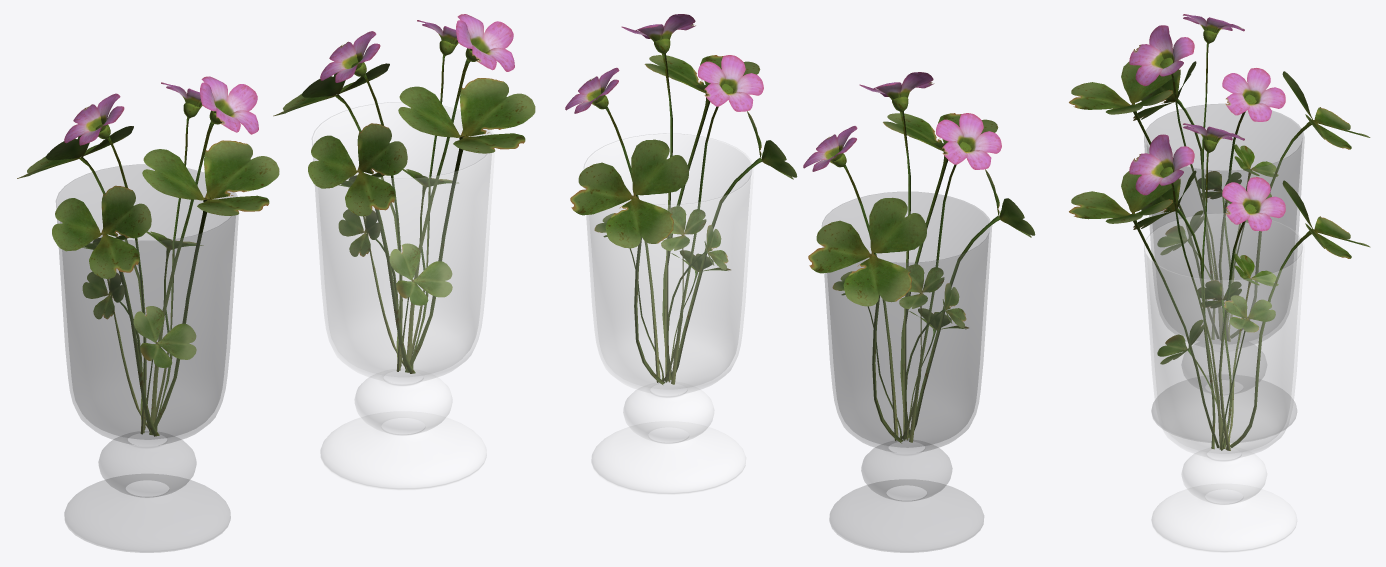
The model's file is GlassVaseFlowers.glb.
The picture shows the model from 3 angles, left to right: view 1: azimuth 30°, elevation 25°; view 2: azimuth 150°, elevation 25°; view 3: azimuth 270°, elevation 25°; orthographic projection. The views are drawn at different scales.
Parts seen in each view (by area): view 1: Flowers1, GlassAlpha, GlassTransmission; view 2: Flowers1, GlassAlpha, GlassTransmission; view 3: GlassTransmission, Flowers1, GlassAlpha.
Boxes of the visible parts, bbox=[...] form: Flowers1: bbox=[17, 14, 535, 436]; GlassAlpha: bbox=[56, 164, 238, 552]; GlassTransmission: bbox=[312, 102, 494, 490]; Flowers1: bbox=[565, 14, 1035, 443]; GlassAlpha: bbox=[822, 192, 991, 552]; GlassTransmission: bbox=[584, 133, 753, 494]; GlassTransmission: bbox=[1144, 213, 1304, 552]; Flowers1: bbox=[1069, 14, 1370, 450]; GlassAlpha: bbox=[1144, 104, 1304, 442].
Size of the model in its own units: 0.2173 by 0.2032 by 0.1425.
Materials: 3 (1 with a texture image).
